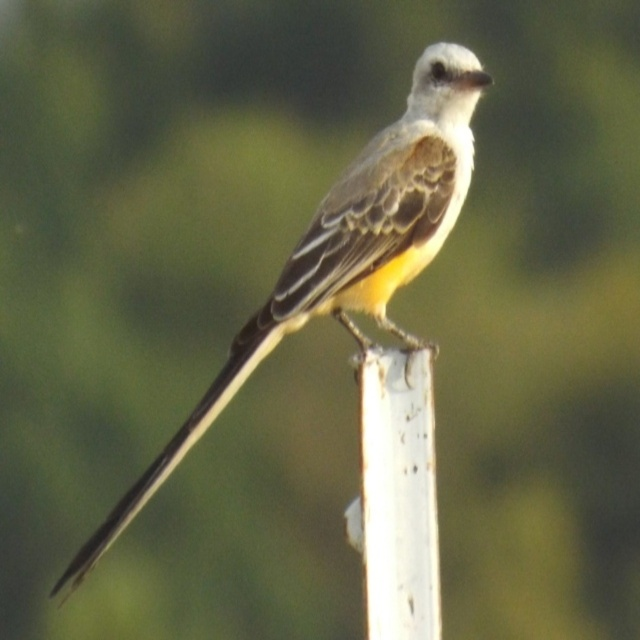Sparrow: (50, 37, 499, 608)
